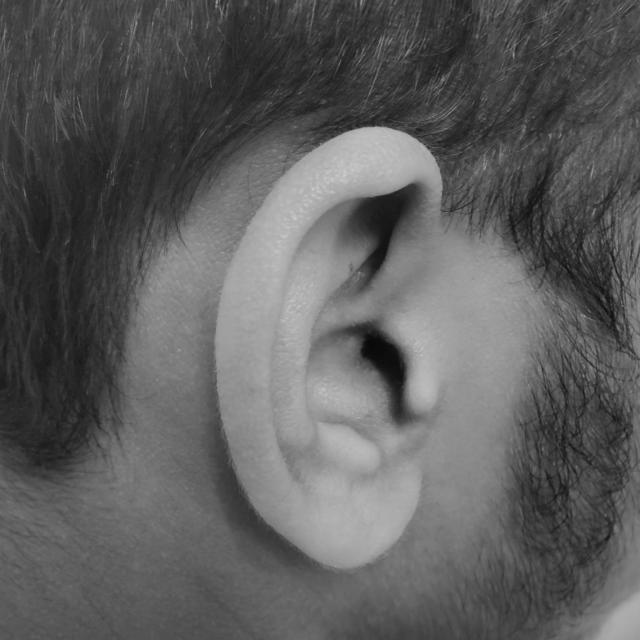ear: (215, 128, 440, 568), (408, 292, 410, 295), (396, 305, 397, 307)
